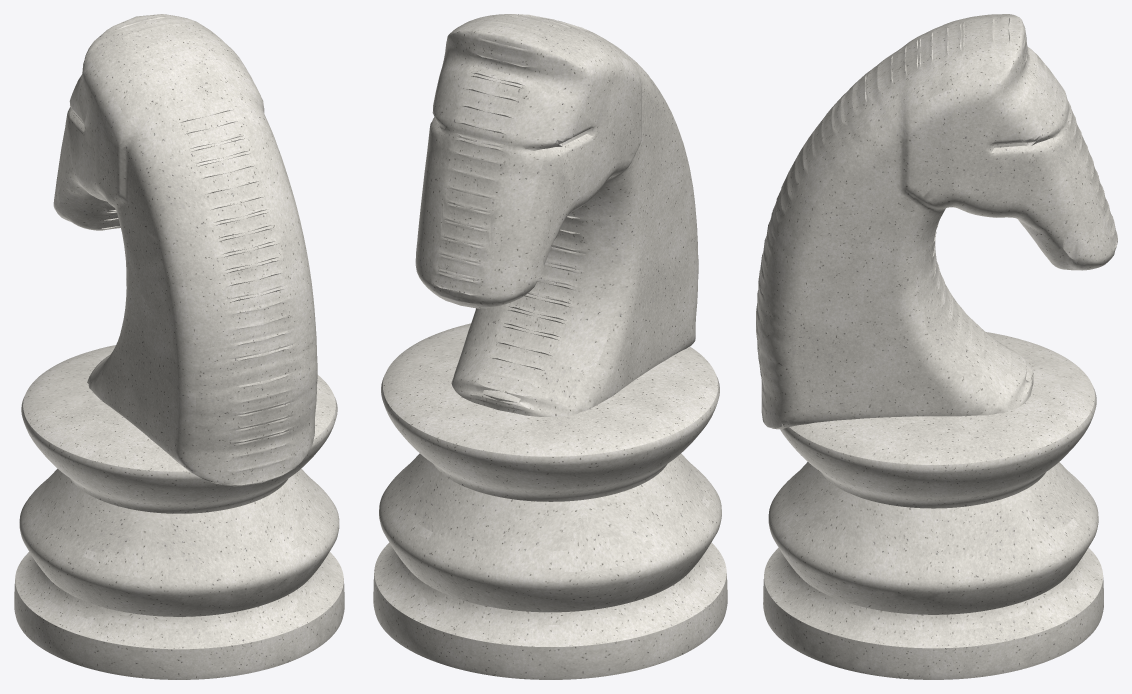
Rendered from knight-white-hd.glb.
3 views of the same model, side by side, from view 1: azimuth 30°, elevation 25°; view 2: azimuth 150°, elevation 25°; view 3: azimuth 270°, elevation 25° (orthographic). The views are drawn at different scales.
Parts seen in each view (by area): view 1: jezdec_bila; view 2: jezdec_bila; view 3: jezdec_bila.
Boxes of the visible parts, x1,y1,x2,y2 form: jezdec_bila: (14, 14, 344, 679); jezdec_bila: (373, 14, 727, 679); jezdec_bila: (756, 14, 1117, 679).
Bounding box in the file's own units: 0.6008 × 1.15 × 0.6376.
1 material, 1 textured.
